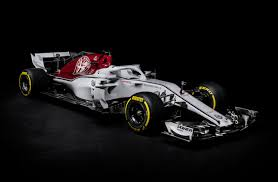f1_car: (16, 44, 265, 152)
